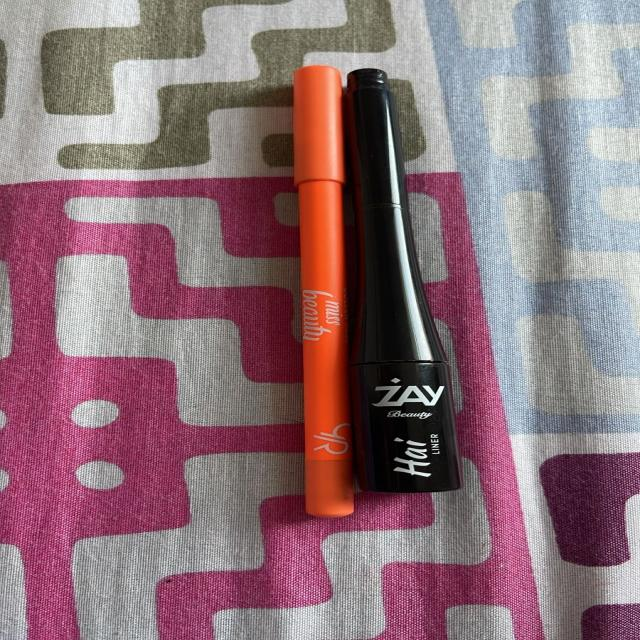lip liner: (250, 44, 366, 522), (340, 46, 442, 518)
